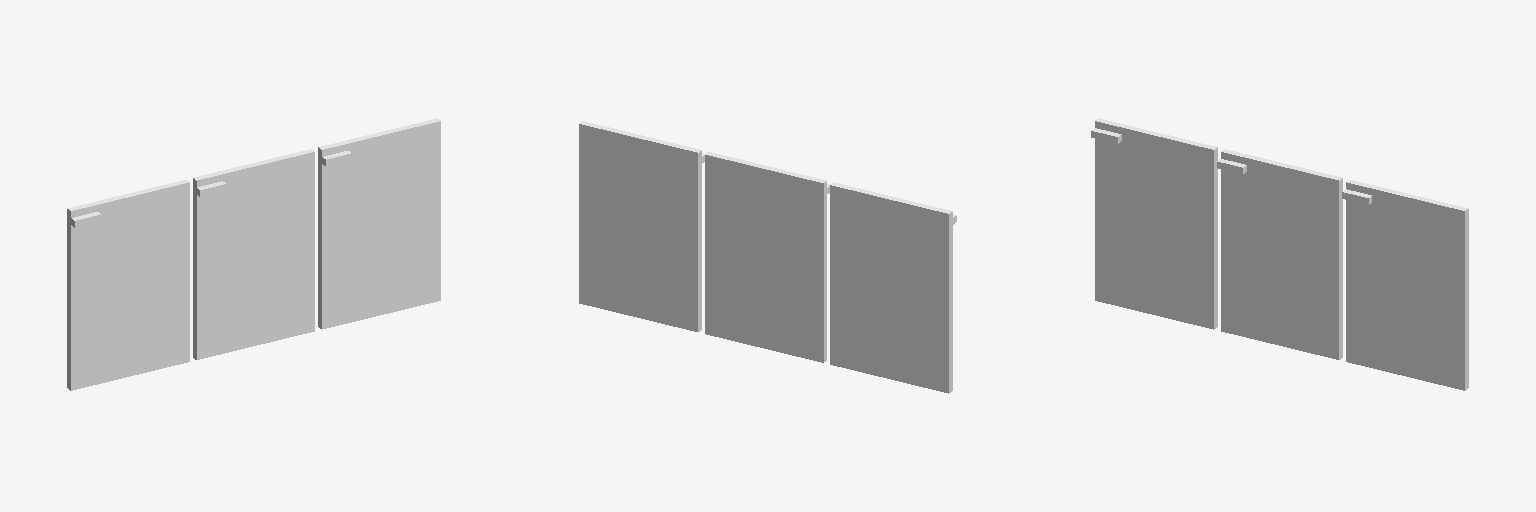
The model's file is Level1-4-21.obj.
3 views of the same model, side by side, from view 1: azimuth 30°, elevation 25°; view 2: azimuth 150°, elevation 25°; view 3: azimuth 330°, elevation 25° (orthographic).
Visible parts, largest first — view 1: Level1-4-21; view 2: Level1-4-21; view 3: Level1-4-21.
Part boxes in pixels (x1,y1,x2,y2): Level1-4-21: (67,118,440,390); Level1-4-21: (579,121,956,393); Level1-4-21: (1091,118,1468,390).
Size of the model in its own units: 56 by 26 by 2.